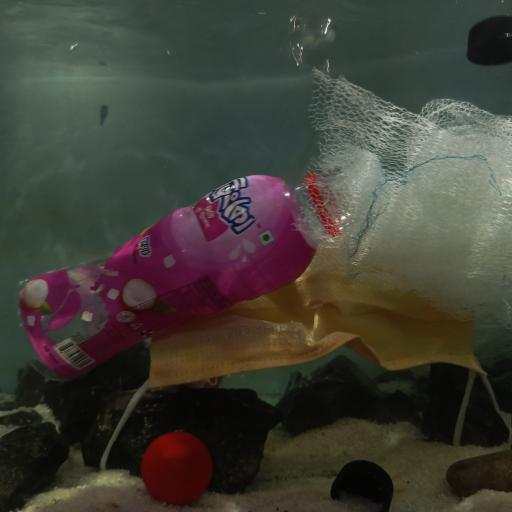bottle_cap: (142, 429, 214, 505), (330, 457, 395, 512), (466, 16, 512, 68)
mask: (140, 234, 497, 410)
net: (294, 57, 512, 330)
plastic_bottle: (10, 168, 356, 384)
